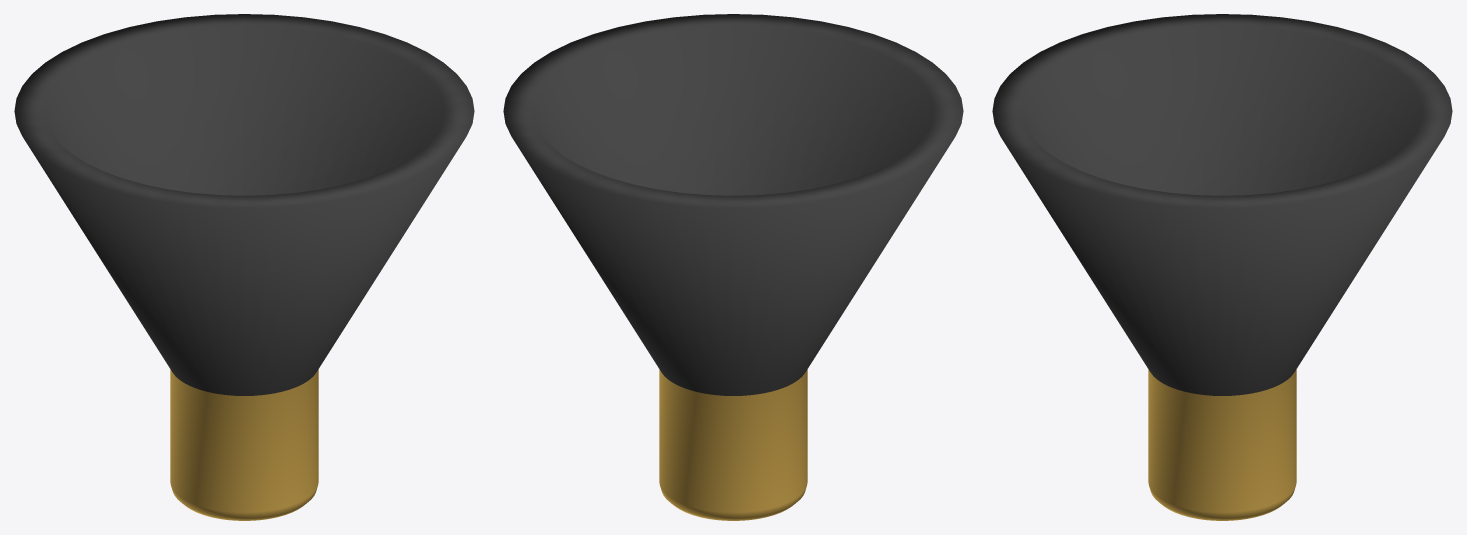
Rendered from Bell.fbx.
3 renders of one model, left to right at view 1: azimuth 30°, elevation 25°; view 2: azimuth 150°, elevation 25°; view 3: azimuth 270°, elevation 25°, orthographic.
Parts seen in each view (by area): view 1: Torus; view 2: Torus; view 3: Torus.
Part boxes in pixels (x1,y1,x2,y2): Torus: (14, 14, 474, 520); Torus: (503, 14, 963, 520); Torus: (992, 14, 1452, 520).
Bounding box in the file's own units: 1084 × 997 × 1084.
